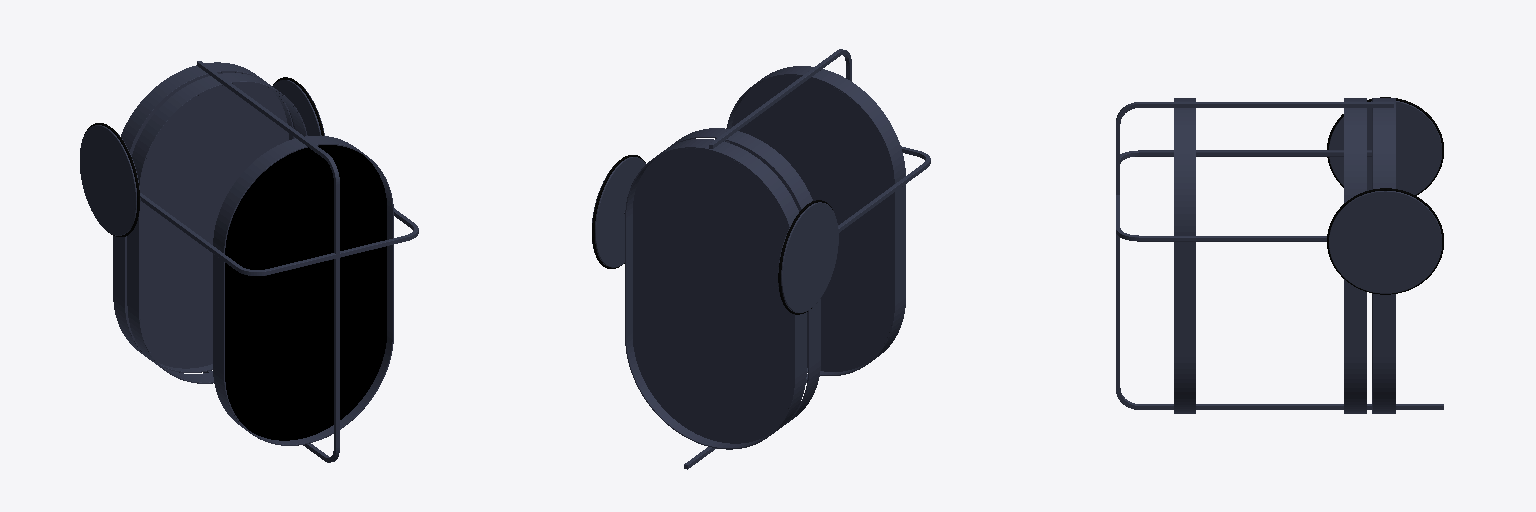
File: Schonbuch_Grace_Trolley_mat(1).obj
3 views of the same model, side by side, from view 1: azimuth 30°, elevation 25°; view 2: azimuth 150°, elevation 25°; view 3: azimuth 270°, elevation 25° (orthographic).
Parts seen in each view (by area): view 1: Schonbuch_Grace_Trolley_mat1; view 2: Schonbuch_Grace_Trolley_mat1; view 3: Schonbuch_Grace_Trolley_mat1.
Boxes of the visible parts, <box> form: Schonbuch_Grace_Trolley_mat1: <box>80,61,418,462</box>; Schonbuch_Grace_Trolley_mat1: <box>592,49,930,469</box>; Schonbuch_Grace_Trolley_mat1: <box>1116,97,1443,413</box>.
Size of the model in its own units: 47 by 72 by 70.